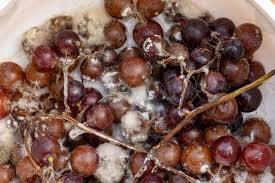Grape Rotten: (1, 1, 273, 182)
